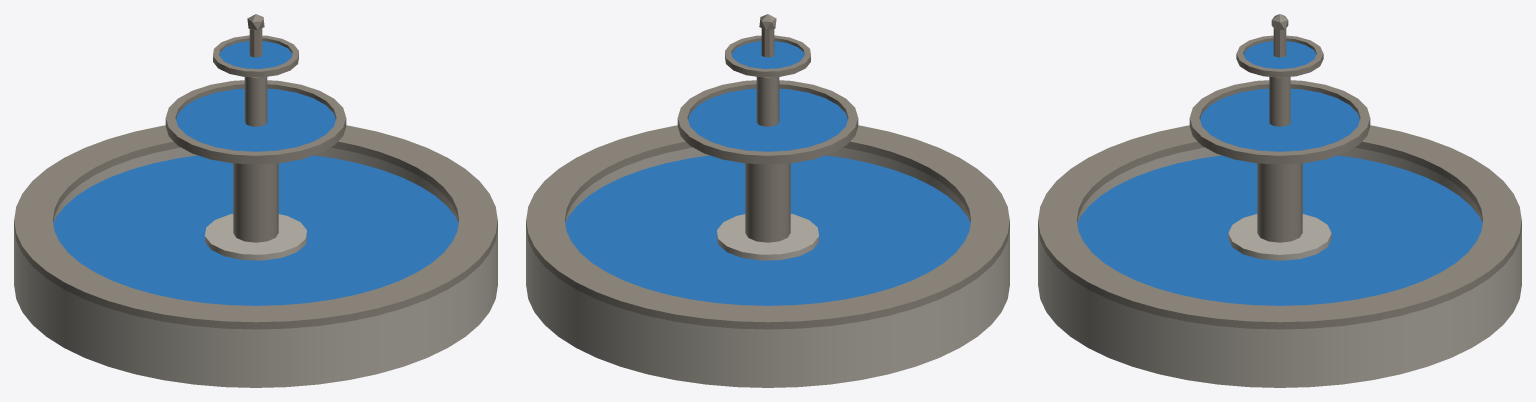
The model's file is fountain.glb.
3 renders of one model, left to right at view 1: azimuth 30°, elevation 25°; view 2: azimuth 150°, elevation 25°; view 3: azimuth 270°, elevation 25°, orthographic.
Visible parts, largest first — view 1: body, water; view 2: body, water; view 3: body, water.
Boxes of the visible parts, box(x1,y1,x2,y2) form: body: box(14, 14, 497, 387); water: box(53, 41, 458, 305); body: box(526, 14, 1009, 387); water: box(565, 41, 970, 305); body: box(1038, 14, 1521, 387); water: box(1077, 41, 1482, 305).
Size of the model in its own units: 3 by 1.86 by 3.
